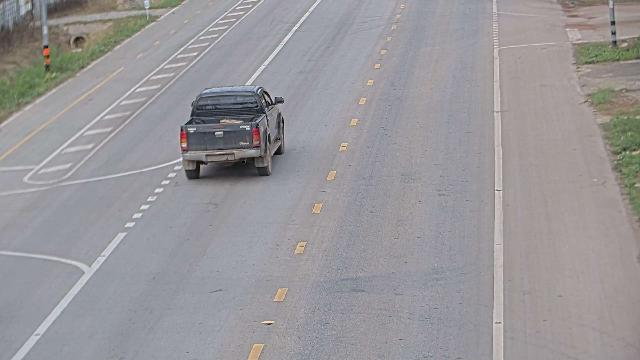pickup-truck: (179, 84, 285, 179)
